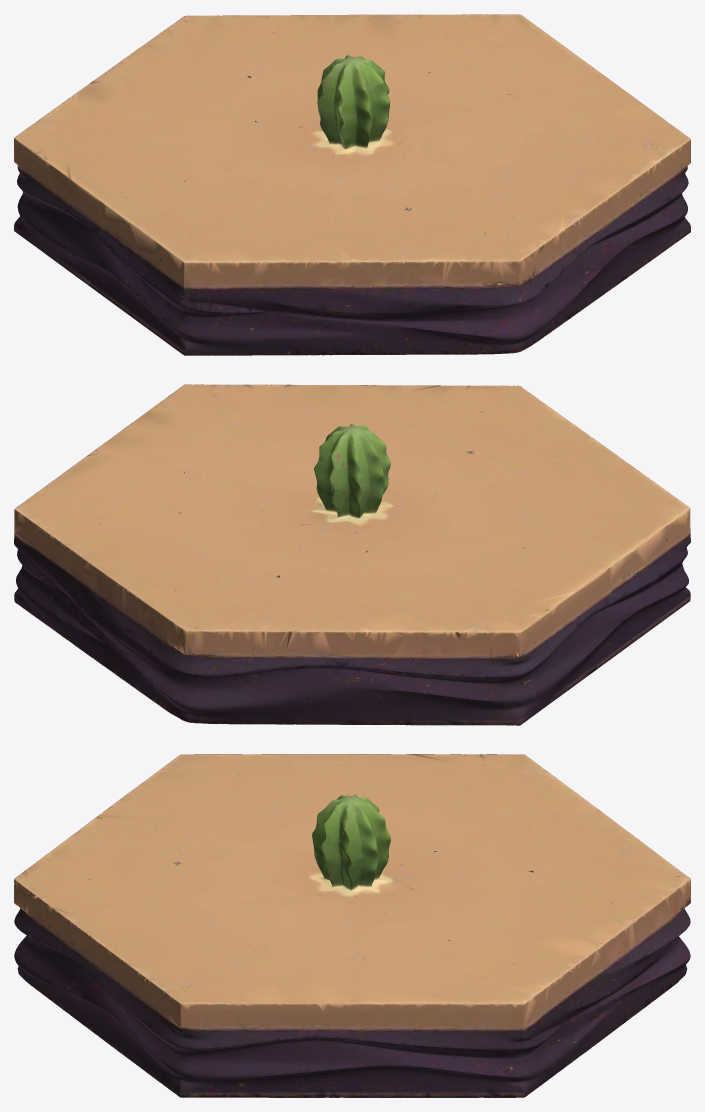
File: sandtile_lv1.glb
The picture shows the model from 3 angles, top to bottom: view 1: azimuth 30°, elevation 25°; view 2: azimuth 150°, elevation 25°; view 3: azimuth 270°, elevation 25°; orthographic projection.
Size of the model in its own units: 1.7 by 0.5404 by 1.9.
Materials: 1 (1 with a texture image).
